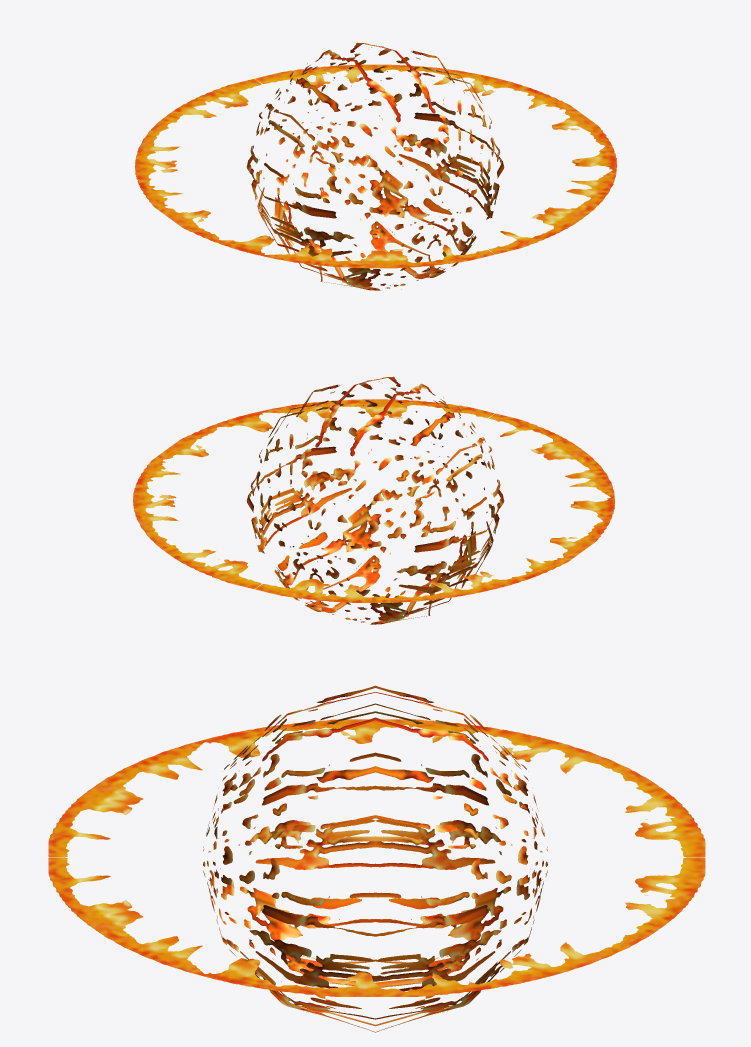
File: explosion.FBX
The picture shows the model from 3 angles, top to bottom: view 1: azimuth 30°, elevation 25°; view 2: azimuth 150°, elevation 25°; view 3: azimuth 270°, elevation 25°; orthographic projection. The views are drawn at different scales.
Visible parts, largest first — view 1: explosion_ball, explosion_ring; view 2: explosion_ball, explosion_ring; view 3: explosion_ball, explosion_ring.
Boxes of the visible parts, x1,y1,x2,y2 form: explosion_ball: [246, 42, 504, 290]; explosion_ring: [135, 64, 616, 268]; explosion_ball: [246, 376, 504, 624]; explosion_ring: [133, 399, 614, 602]; explosion_ball: [203, 685, 547, 1032]; explosion_ring: [48, 719, 705, 996].
Bounding box in the file's own units: 623 × 303 × 623.
